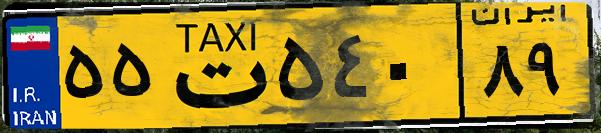0: (385, 28, 445, 110)
4: (330, 28, 385, 110)
5: (270, 28, 330, 110), (57, 26, 110, 100), (110, 28, 158, 98)
8: (475, 38, 525, 113)
9: (525, 38, 570, 115)
ت: (158, 12, 270, 120)
